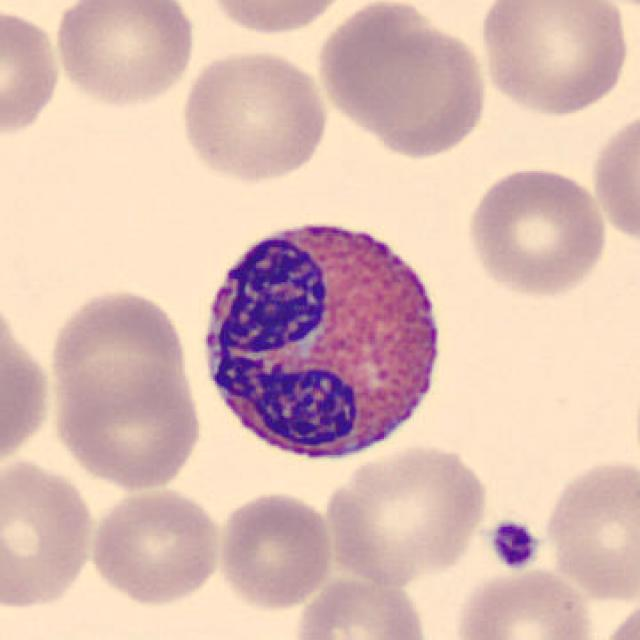Eosinophil: (190, 203, 455, 476)
Platelets: (485, 517, 544, 573)
RBC: (318, 441, 492, 587), (42, 284, 196, 437), (176, 46, 331, 185), (50, 354, 206, 492), (462, 162, 612, 300), (313, 0, 461, 137), (475, 0, 633, 118), (85, 483, 226, 608), (356, 30, 486, 160), (49, 0, 199, 109), (213, 488, 338, 612), (0, 455, 98, 613), (539, 453, 638, 605), (452, 564, 599, 640), (0, 291, 55, 478), (290, 573, 432, 640), (0, 4, 64, 141), (588, 102, 638, 252), (199, 0, 359, 39), (594, 594, 638, 640), (574, 0, 640, 16)
